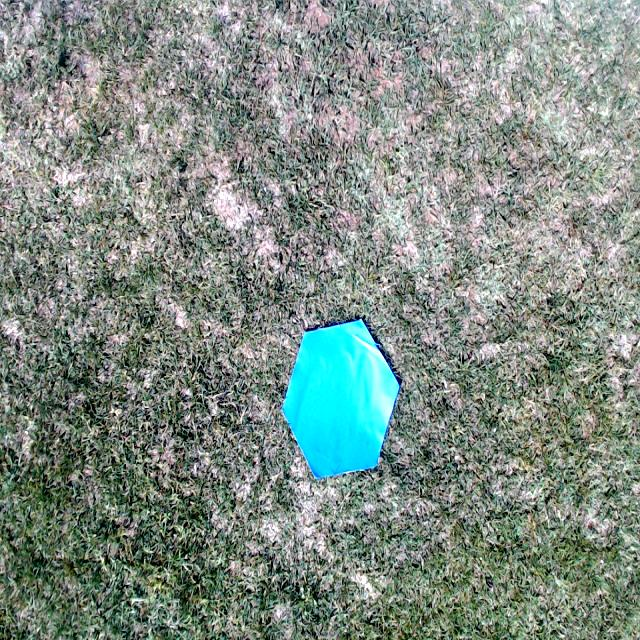blue_hexagon: (280, 317, 401, 479)
